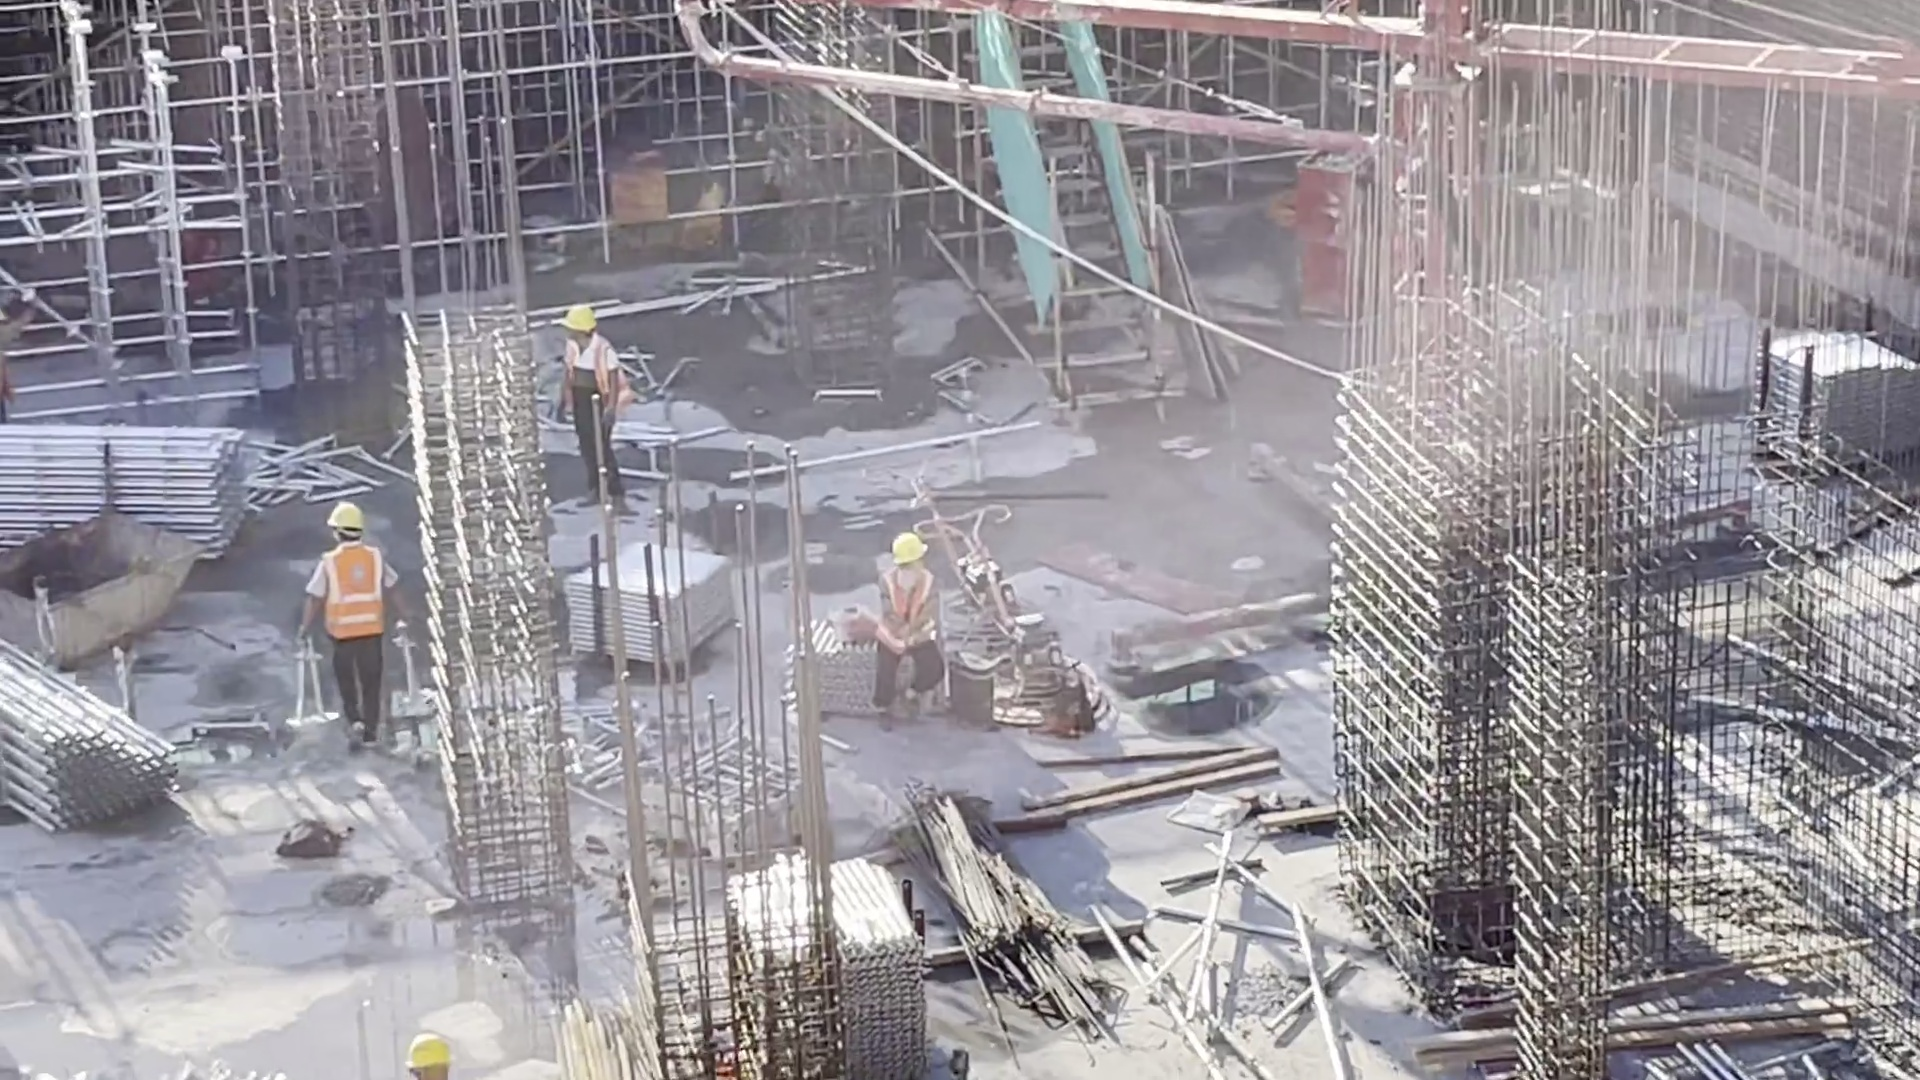helmet: (334, 487, 409, 561), (571, 304, 629, 362), (413, 1034, 451, 1071), (888, 522, 921, 556)
hopper: (6, 512, 203, 636)
person: (318, 485, 409, 733), (569, 305, 649, 493), (871, 513, 936, 703), (401, 1028, 456, 1080)
rebar: (878, 758, 1144, 1055)
scaffold: (726, 859, 969, 1074), (1, 433, 233, 556), (1, 674, 164, 837), (589, 539, 776, 664), (1754, 312, 1898, 461), (758, 646, 949, 757)
vest: (313, 532, 371, 644), (883, 572, 928, 637), (581, 347, 609, 406)
